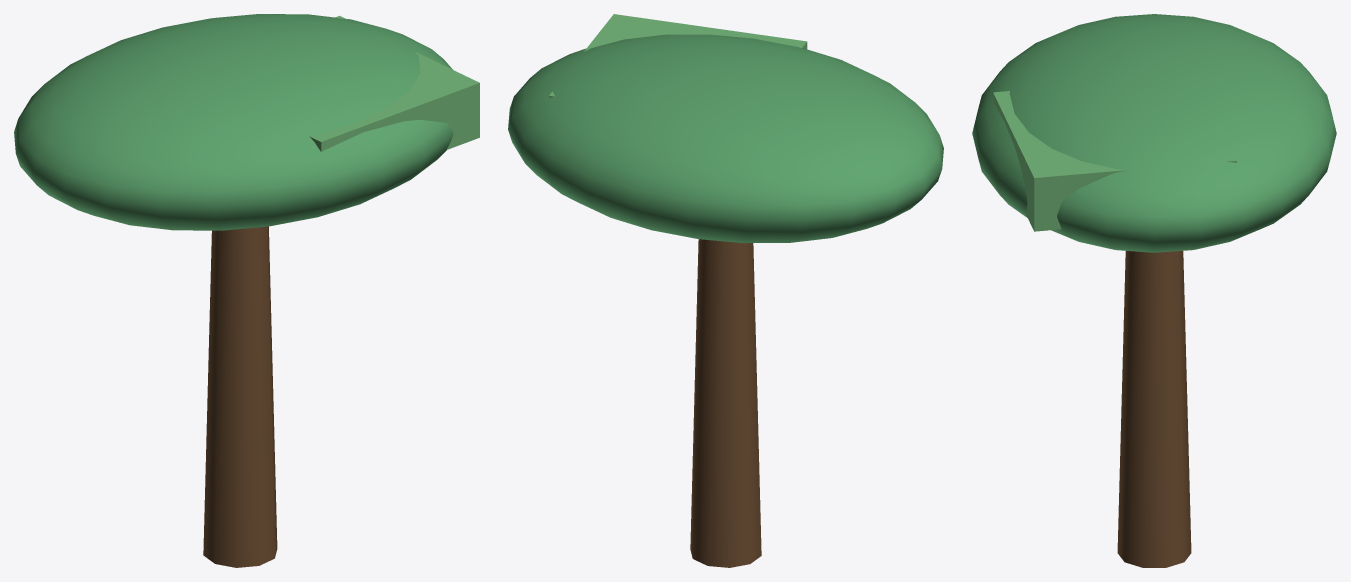
The model's file is tree_plane.glb.
3 views of the same model, side by side, from view 1: azimuth 30°, elevation 25°; view 2: azimuth 150°, elevation 25°; view 3: azimuth 270°, elevation 25° (orthographic). The views are drawn at different scales.
Parts seen in each view (by area): view 1: flat_canopy, trunk, canopy_cut; view 2: flat_canopy, trunk, canopy_cut; view 3: flat_canopy, trunk, canopy_cut.
Boxes of the visible parts, <box> form: flat_canopy: <box>14,14,453,230</box>; trunk: <box>203,226,277,567</box>; canopy_cut: <box>309,15,479,151</box>; flat_canopy: <box>508,34,943,243</box>; trunk: <box>690,239,761,567</box>; canopy_cut: <box>549,14,807,97</box>; flat_canopy: <box>972,14,1336,252</box>; trunk: <box>1117,251,1191,567</box>; canopy_cut: <box>993,91,1236,231</box>.
Bounding box in the file's own units: 0.95 × 1.09 × 0.74.
